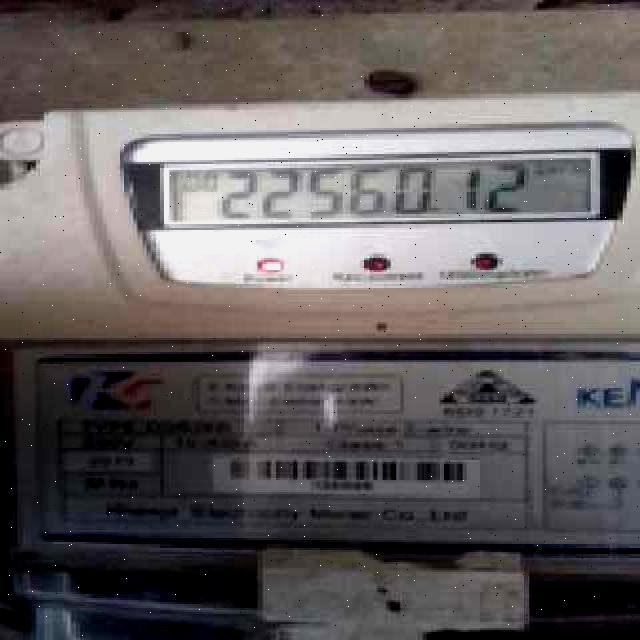LCD: (156, 150, 611, 226)
